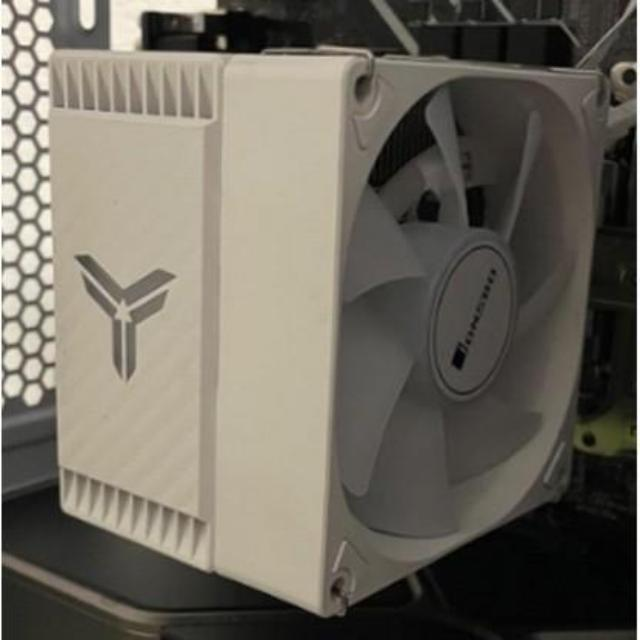CPU_Fan: (50, 44, 605, 618)
